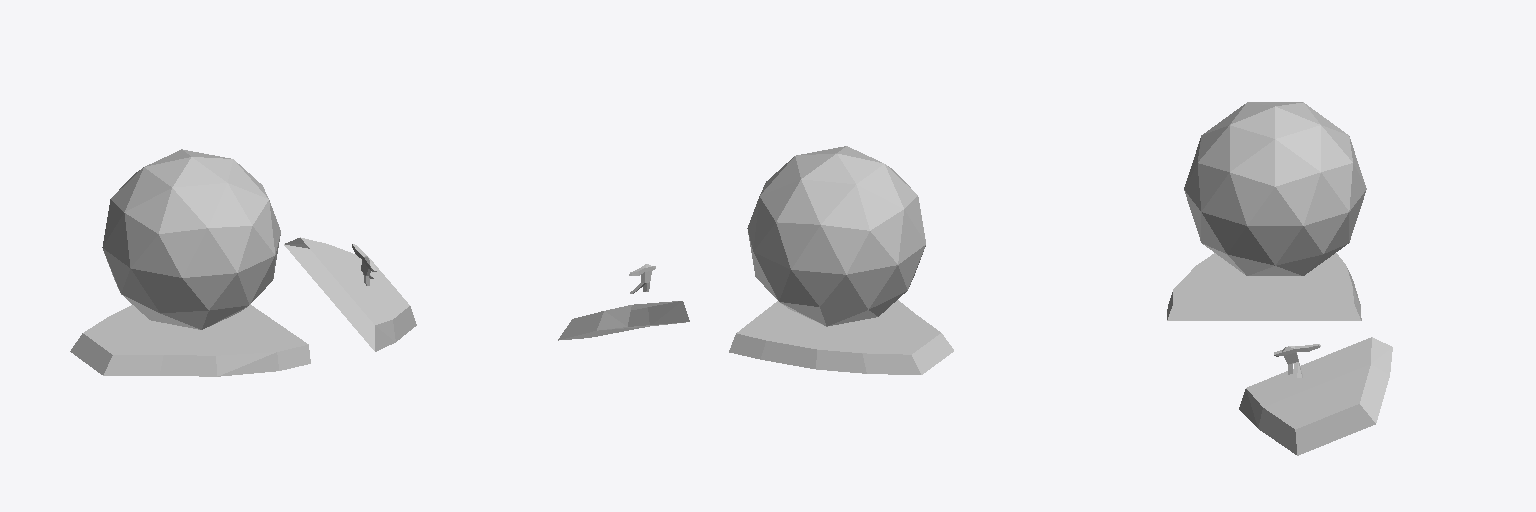
The model's file is obelisk.obj.
The picture shows the model from 3 angles: view 1: azimuth 30°, elevation 25°; view 2: azimuth 150°, elevation 25°; view 3: azimuth 270°, elevation 25°; orthographic projection.
Visible parts, largest first — view 1: obelisk_Plane; view 2: obelisk_Plane; view 3: obelisk_Plane.
Part boxes in pixels (x1,y1,x2,y2): obelisk_Plane: (70,149,416,376); obelisk_Plane: (558,146,953,374); obelisk_Plane: (1167,102,1392,455).
Size of the model in its own units: 8.17 by 5.38 by 4.71.